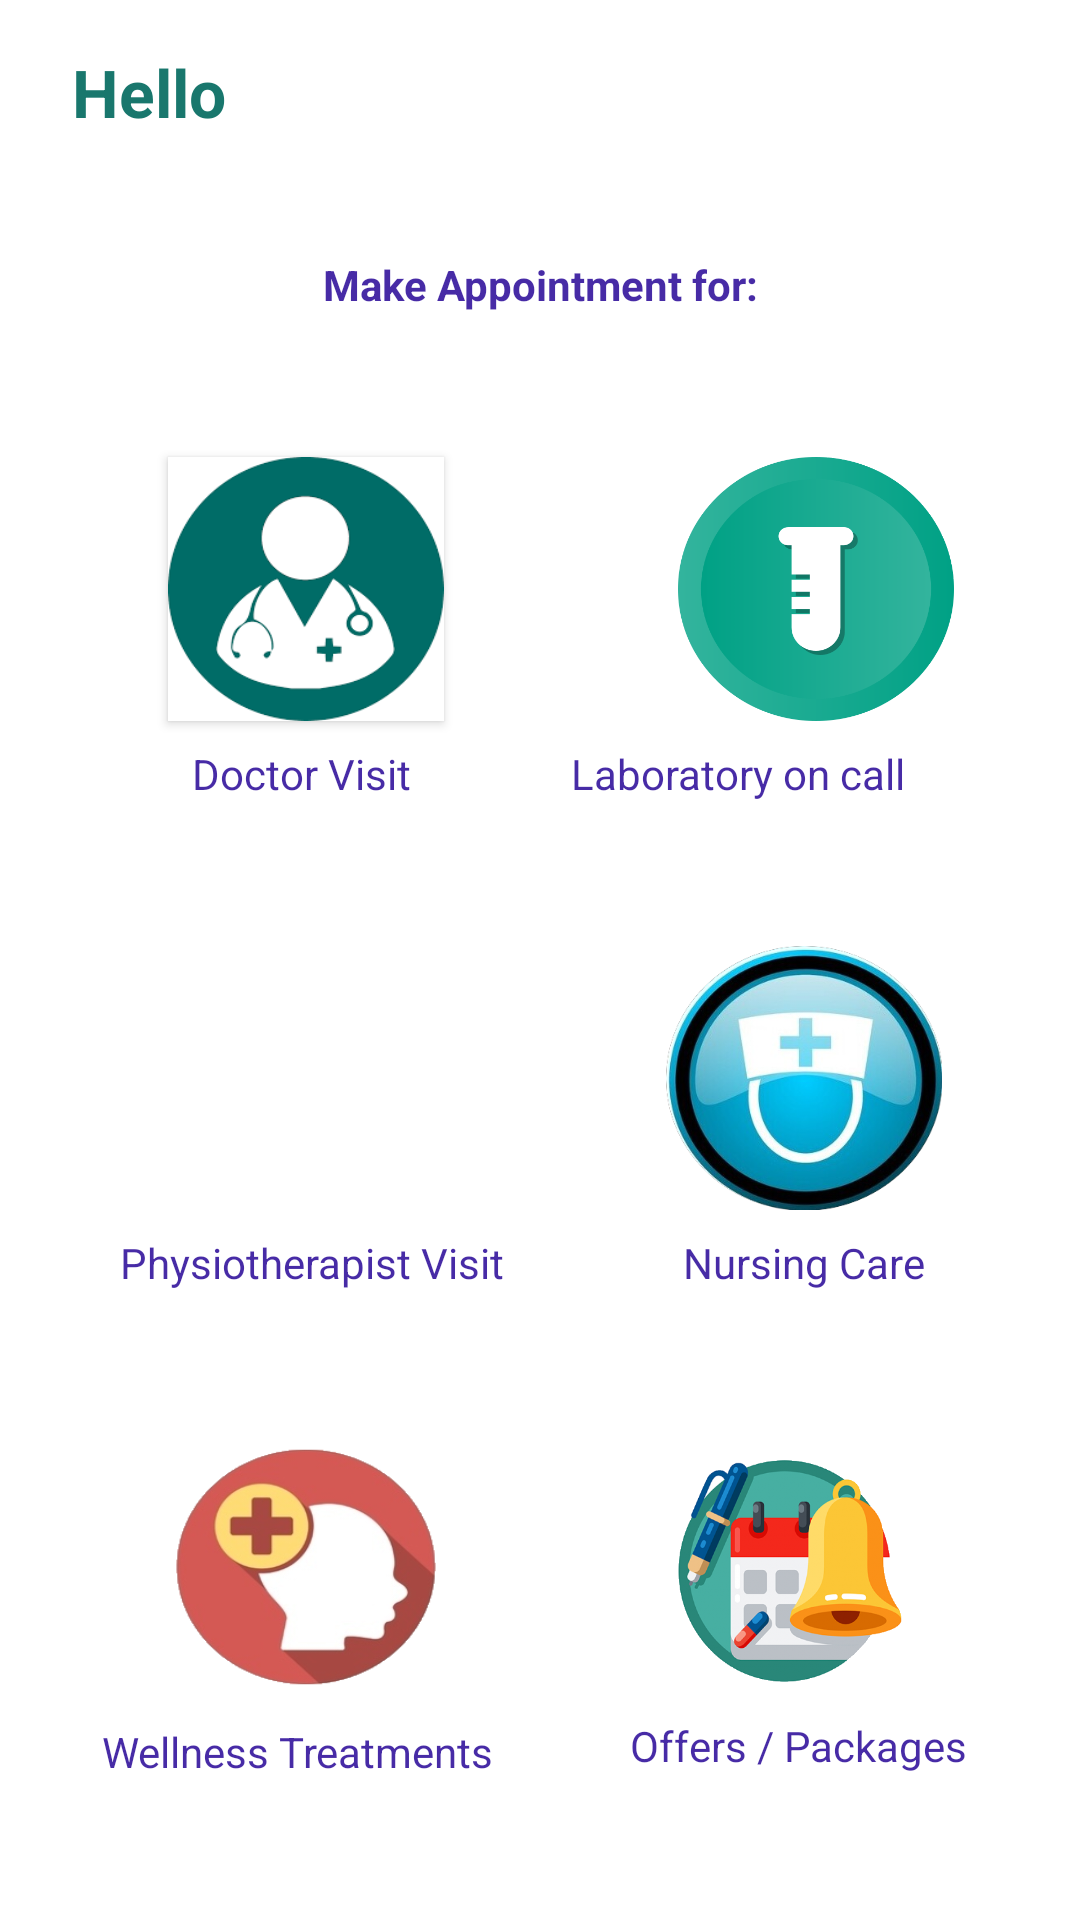

Icons on this 1080px x 1920px Android screen, each with the point to tap as [x,y]:
notification: [790,1571]
